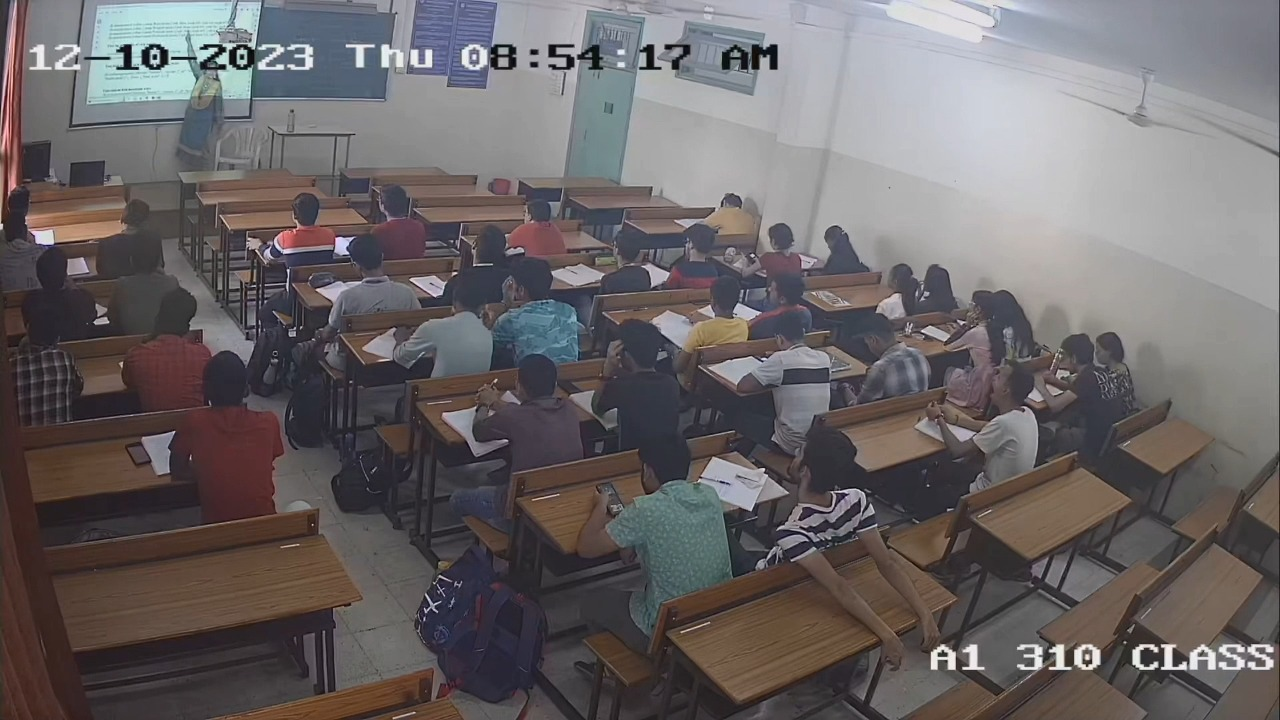cell-phones: (594, 478, 626, 518), (123, 439, 153, 468), (555, 376, 584, 396), (592, 253, 618, 267), (745, 250, 759, 263)
person: (575, 432, 734, 579), (169, 353, 284, 515), (591, 316, 681, 433), (597, 229, 652, 293), (744, 222, 805, 278)
